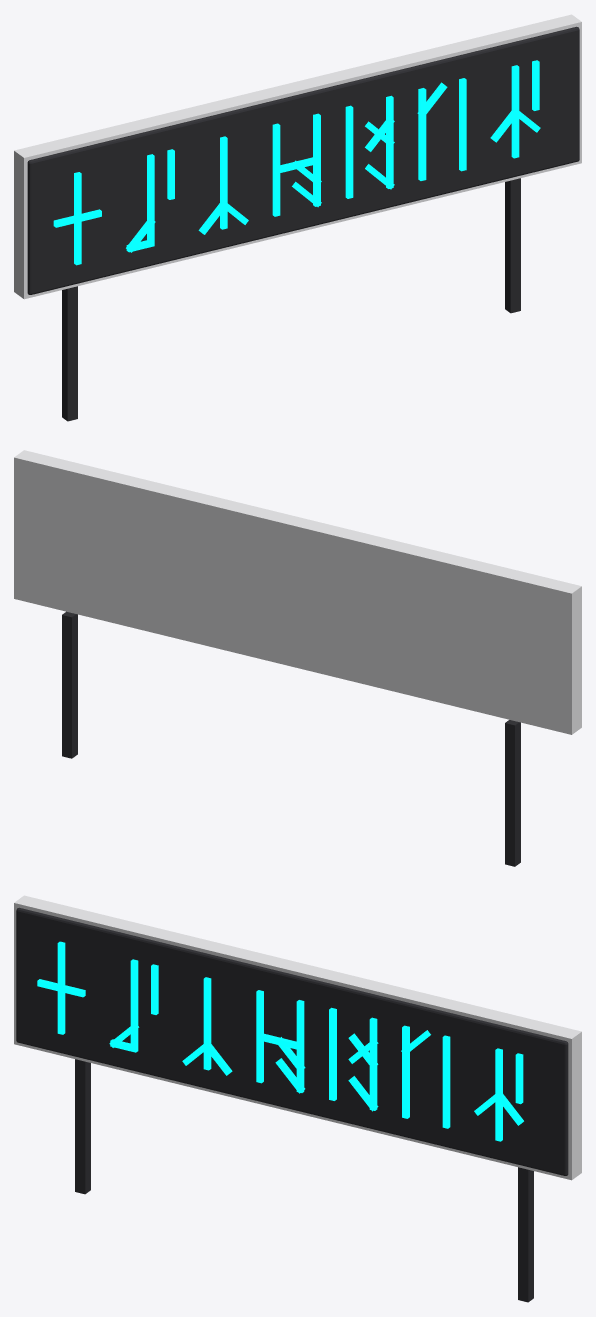
The model's file is SM_SignH1.fbx.
3 renders of one model, top to bottom at view 1: azimuth 30°, elevation 25°; view 2: azimuth 150°, elevation 25°; view 3: azimuth 330°, elevation 25°, orthographic.
Parts seen in each view (by area): view 1: SM_SignH1; view 2: SM_SignH1; view 3: SM_SignH1.
Part boxes in pixels (x1,y1,x2,y2): SM_SignH1: [14, 14, 581, 421]; SM_SignH1: [14, 450, 581, 866]; SM_SignH1: [14, 895, 581, 1302].
Bounding box in the file's own units: 0.485 × 8.26 × 4.
